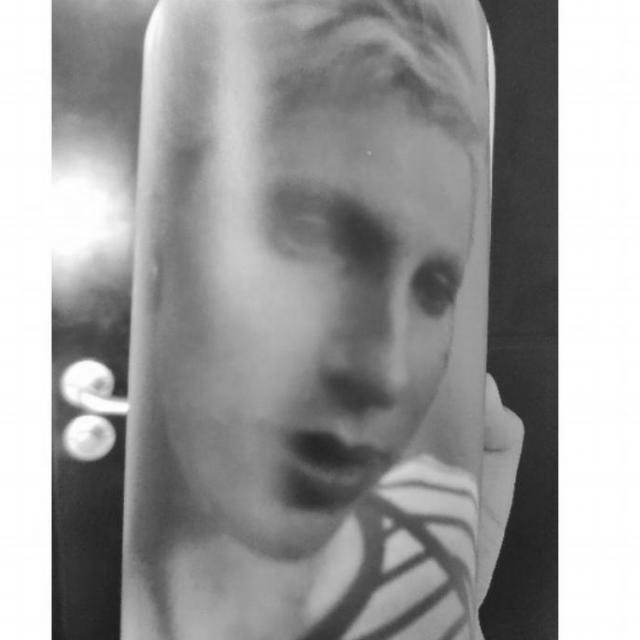fake: (114, 0, 502, 640)
